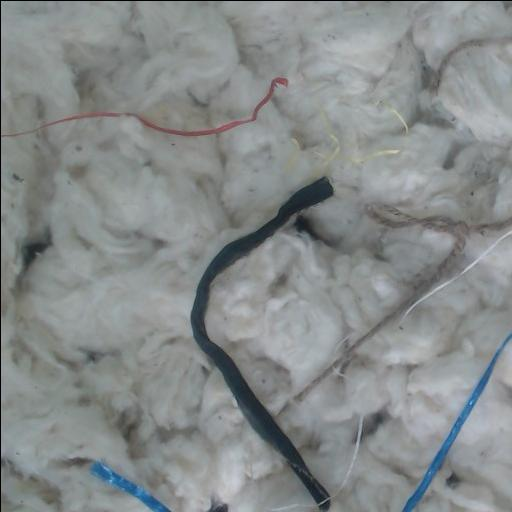cotton: (1, 1, 512, 512), (415, 342, 512, 512)
jute: (297, 209, 512, 400), (427, 40, 491, 94)
thread: (190, 175, 333, 512), (401, 331, 512, 512), (1, 77, 288, 137), (401, 225, 512, 318), (90, 461, 172, 512), (339, 414, 363, 489), (319, 107, 341, 167), (342, 148, 400, 161), (388, 107, 409, 134), (275, 501, 304, 510), (95, 466, 112, 480), (208, 504, 227, 512), (130, 488, 143, 495), (334, 366, 343, 375), (153, 505, 161, 512)
